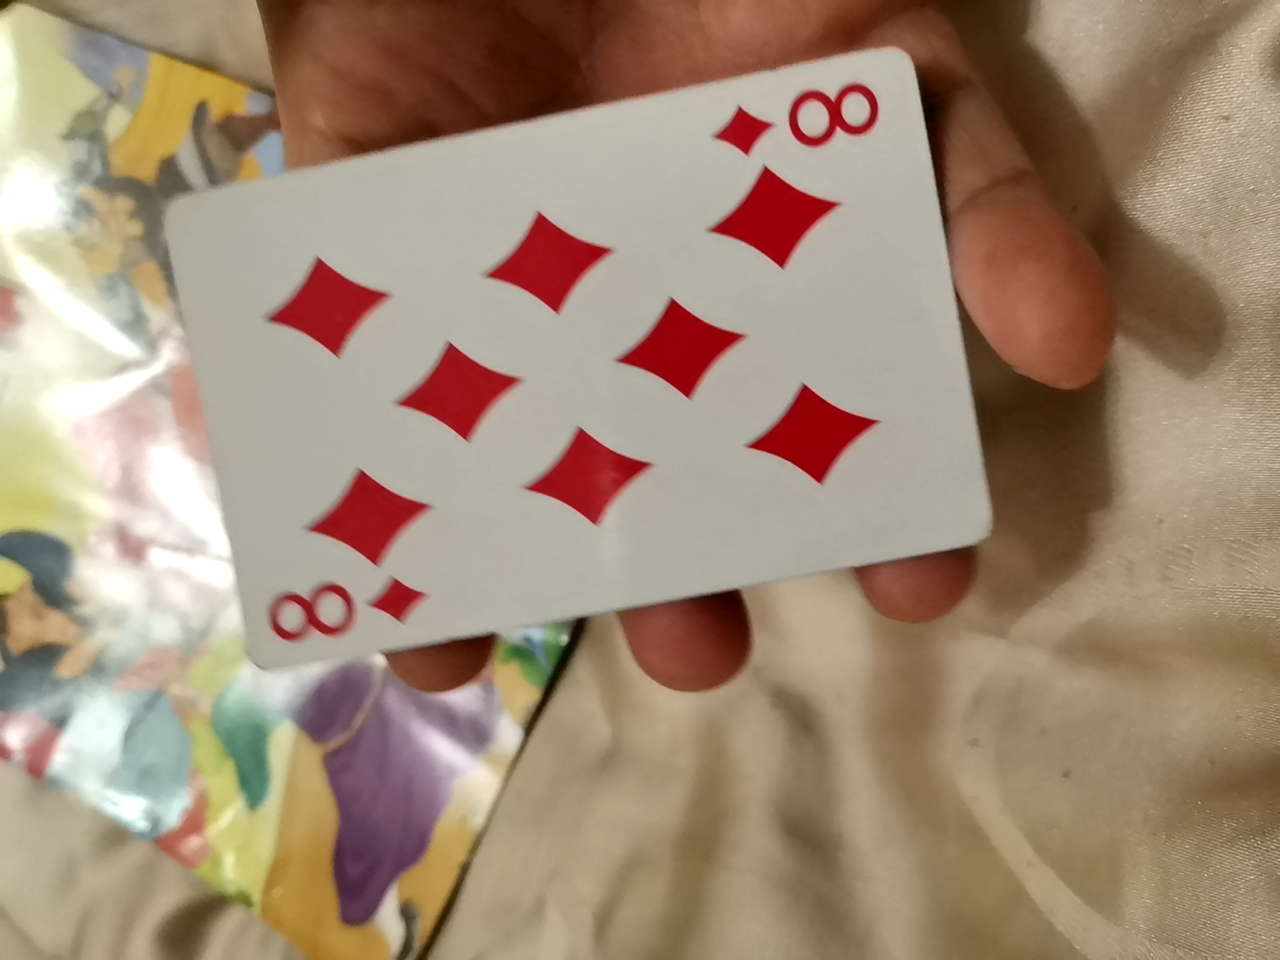fk 8: (245, 77, 1053, 696)
